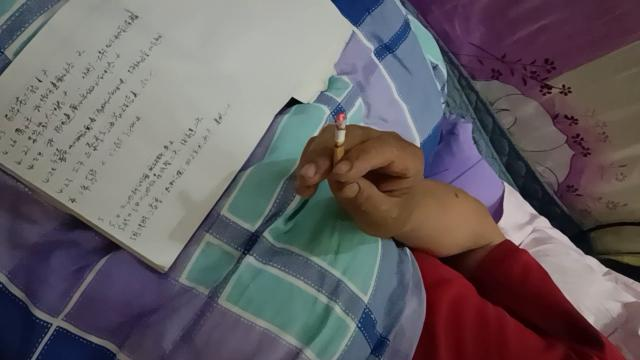Cigarette: (334, 112, 346, 176)
